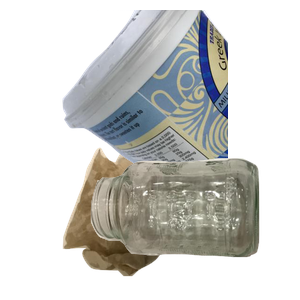glass: (88, 156, 300, 300)
metal: (86, 46, 248, 169)
plastic: (60, 10, 300, 190)
trash: (60, 142, 300, 300)
